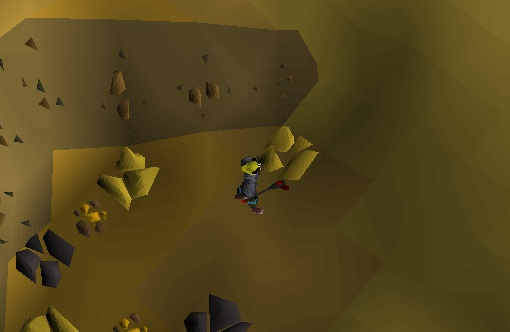depleted: (8, 223, 94, 295)
gold: (251, 119, 337, 197)
